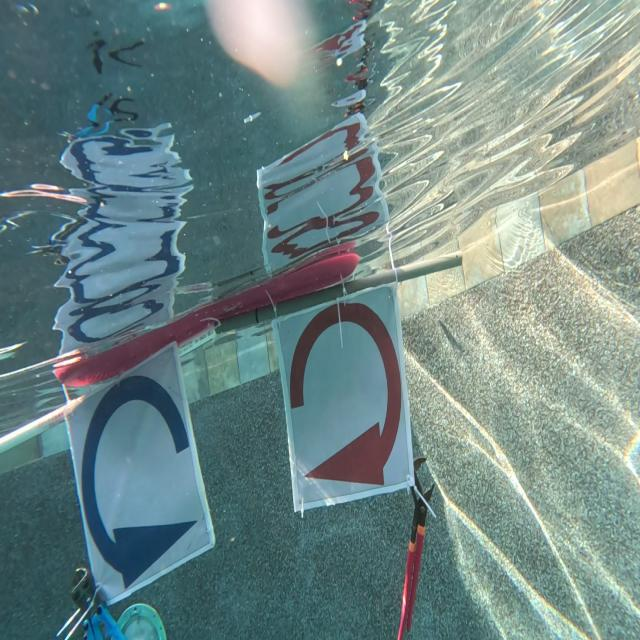blue_side: (78, 365, 204, 587)
red_side: (275, 292, 407, 496)
